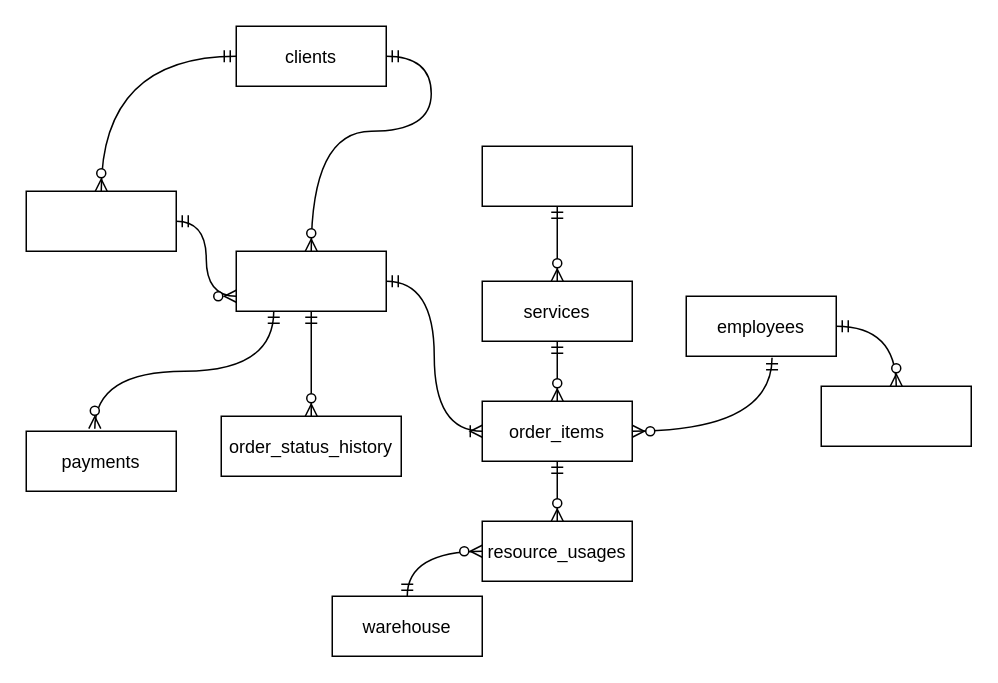
This 998x683 diagram has some shape labels left out. The shapes that lost their labels are listed below. From the top down, each one's centre as x and y in pixels, then its label:
(556,175): service_blocks
(100,220): vehicles
(310,280): orders
(895,415): salary_accruals
